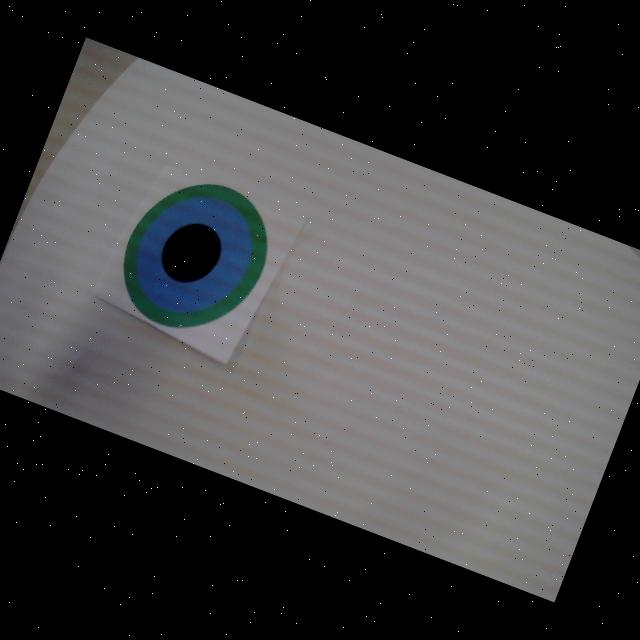COGNITIVE: (105, 160, 288, 353)
